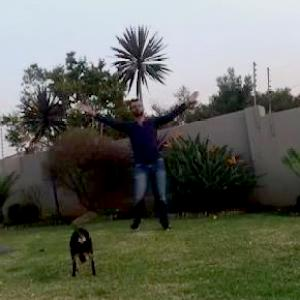takeoff: (68, 95, 181, 226)
